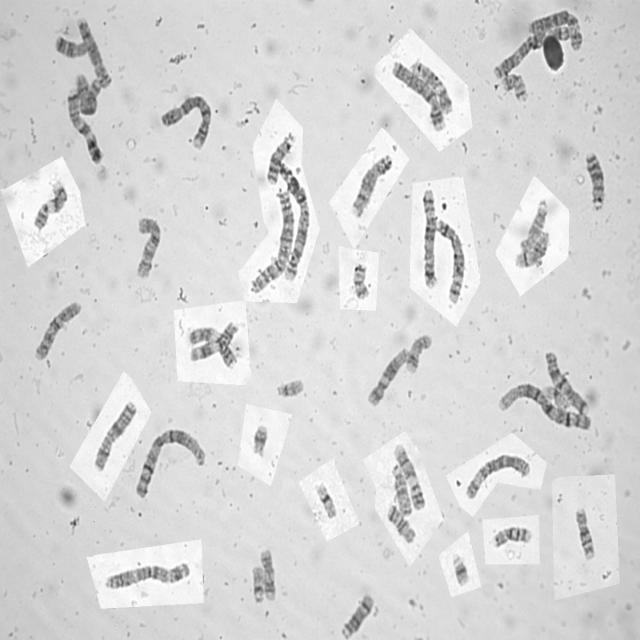A1: (131, 423, 208, 499), (496, 378, 592, 432)
A2: (248, 184, 297, 295), (275, 162, 311, 284)
A3: (491, 22, 548, 80), (102, 557, 194, 591)
B4: (388, 56, 448, 133), (158, 90, 214, 152)
B5: (432, 215, 468, 306), (419, 184, 439, 289)
C10: (32, 296, 84, 362), (133, 212, 163, 280)
C11: (186, 320, 238, 368), (192, 316, 242, 362)
C12: (364, 343, 410, 408), (409, 56, 455, 115)
C6: (462, 450, 532, 500), (524, 6, 584, 52)
C7: (543, 347, 591, 416), (64, 86, 105, 165)
C8: (349, 150, 394, 218), (74, 12, 112, 90)
C9: (392, 441, 426, 511), (30, 177, 69, 232)
D13: (264, 130, 296, 187), (582, 148, 606, 212)
D14: (338, 588, 376, 640), (512, 226, 551, 270)
D15: (518, 196, 550, 253), (388, 461, 414, 517)
E16: (572, 502, 597, 562), (489, 521, 534, 550)
E17: (404, 330, 434, 374), (258, 544, 278, 602)
E18: (384, 500, 417, 545), (52, 32, 90, 59)
F19: (312, 478, 339, 520), (540, 380, 572, 411)
F20: (499, 70, 529, 103), (351, 260, 371, 301)
G21: (449, 548, 471, 588), (250, 420, 270, 456)
G22: (273, 374, 306, 399), (249, 562, 267, 604)
X: (91, 397, 138, 472), (73, 71, 103, 117)
